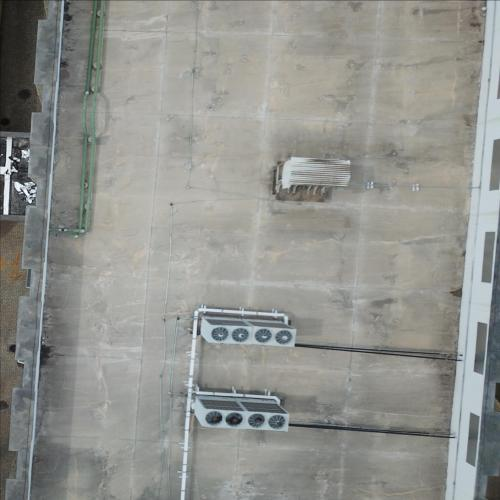conde: (190, 392, 248, 434), (248, 394, 294, 435), (197, 315, 254, 347), (255, 316, 299, 350)
